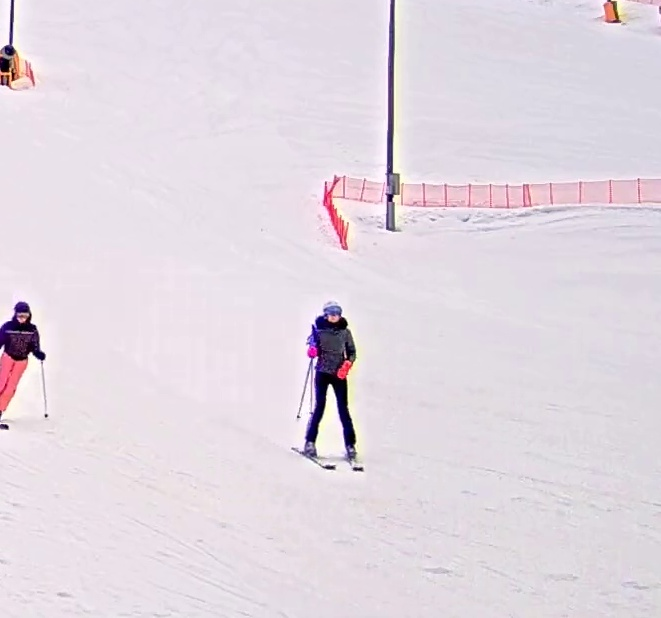skier: (290, 299, 367, 475)
